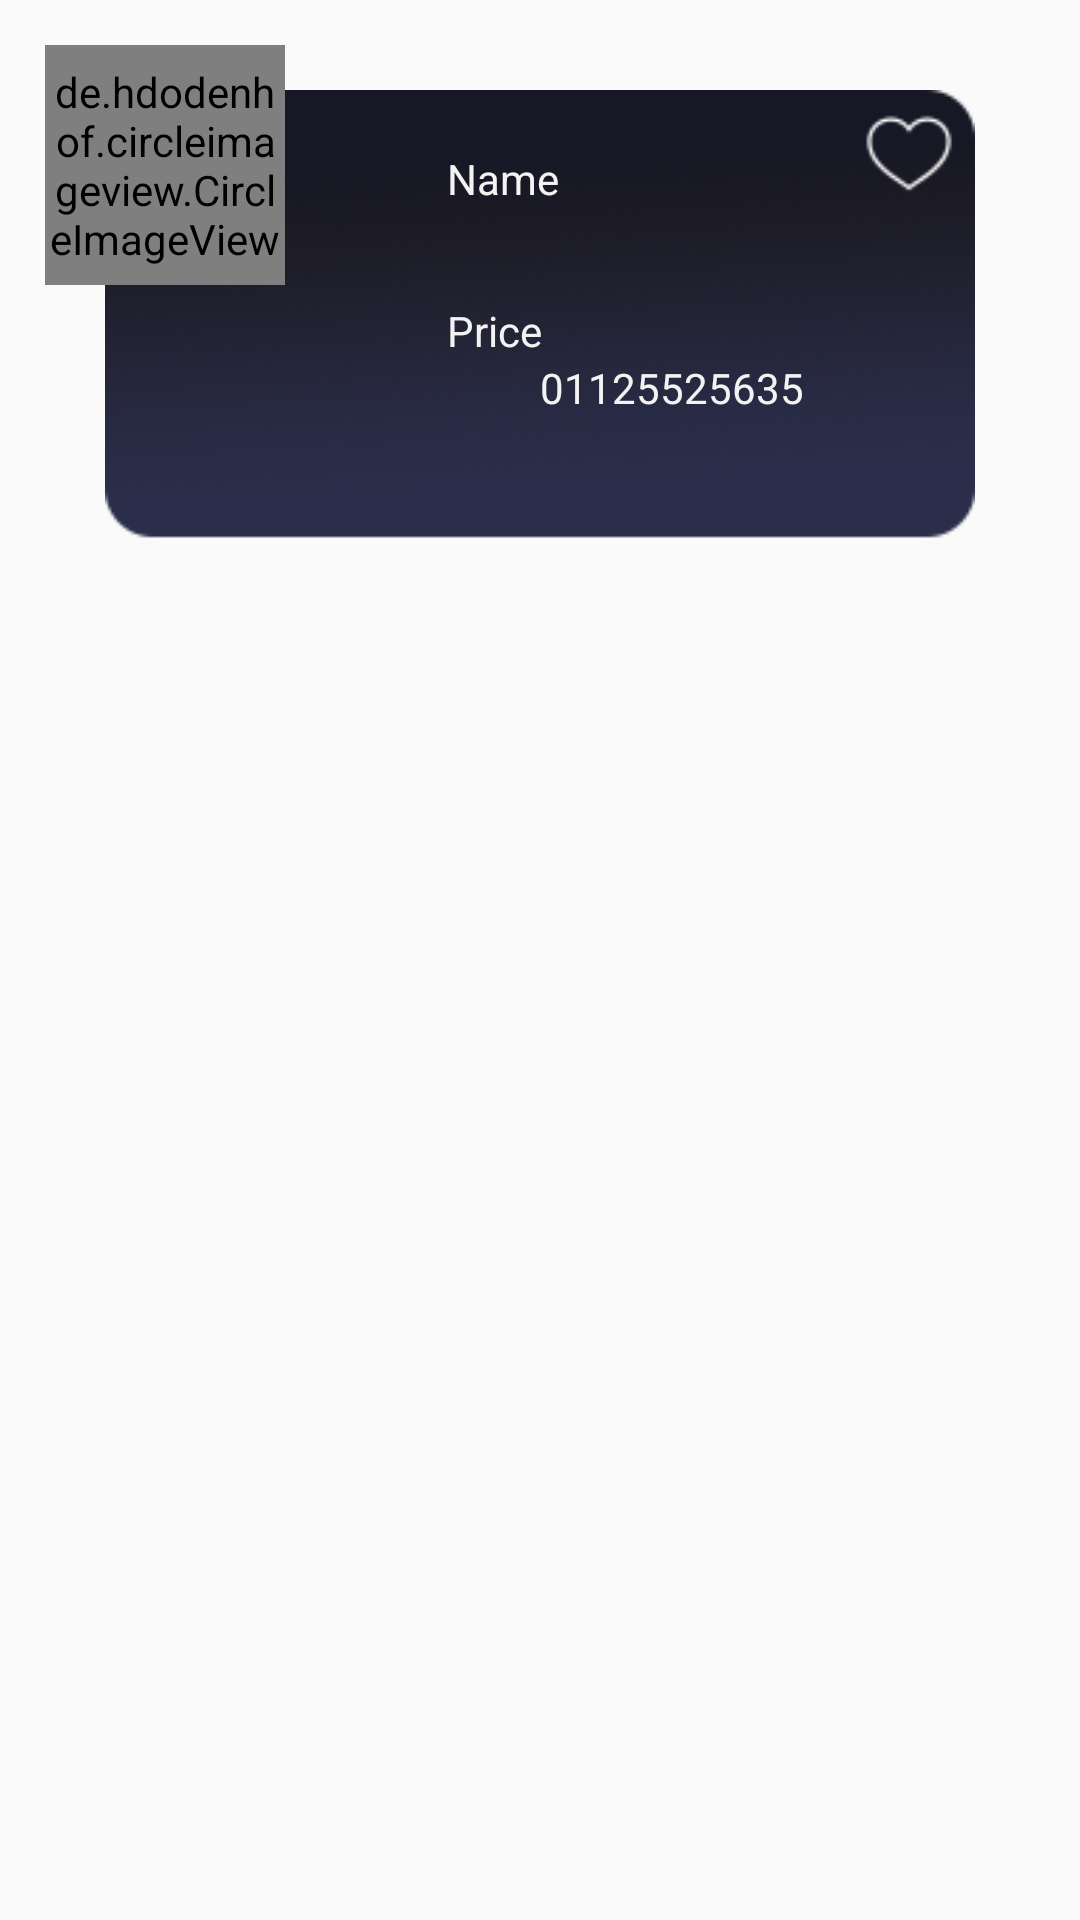

Icons on this 1080*1920 Android screen, each with the point to tap as point (x, y):
hfav: point (909, 153)
